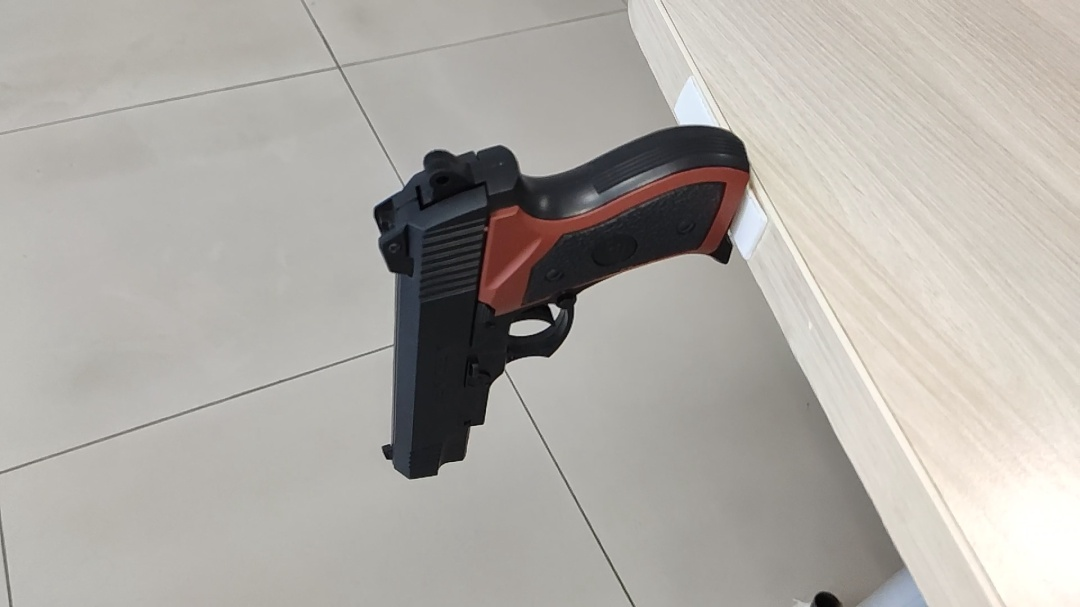gun: (371, 122, 751, 486)
